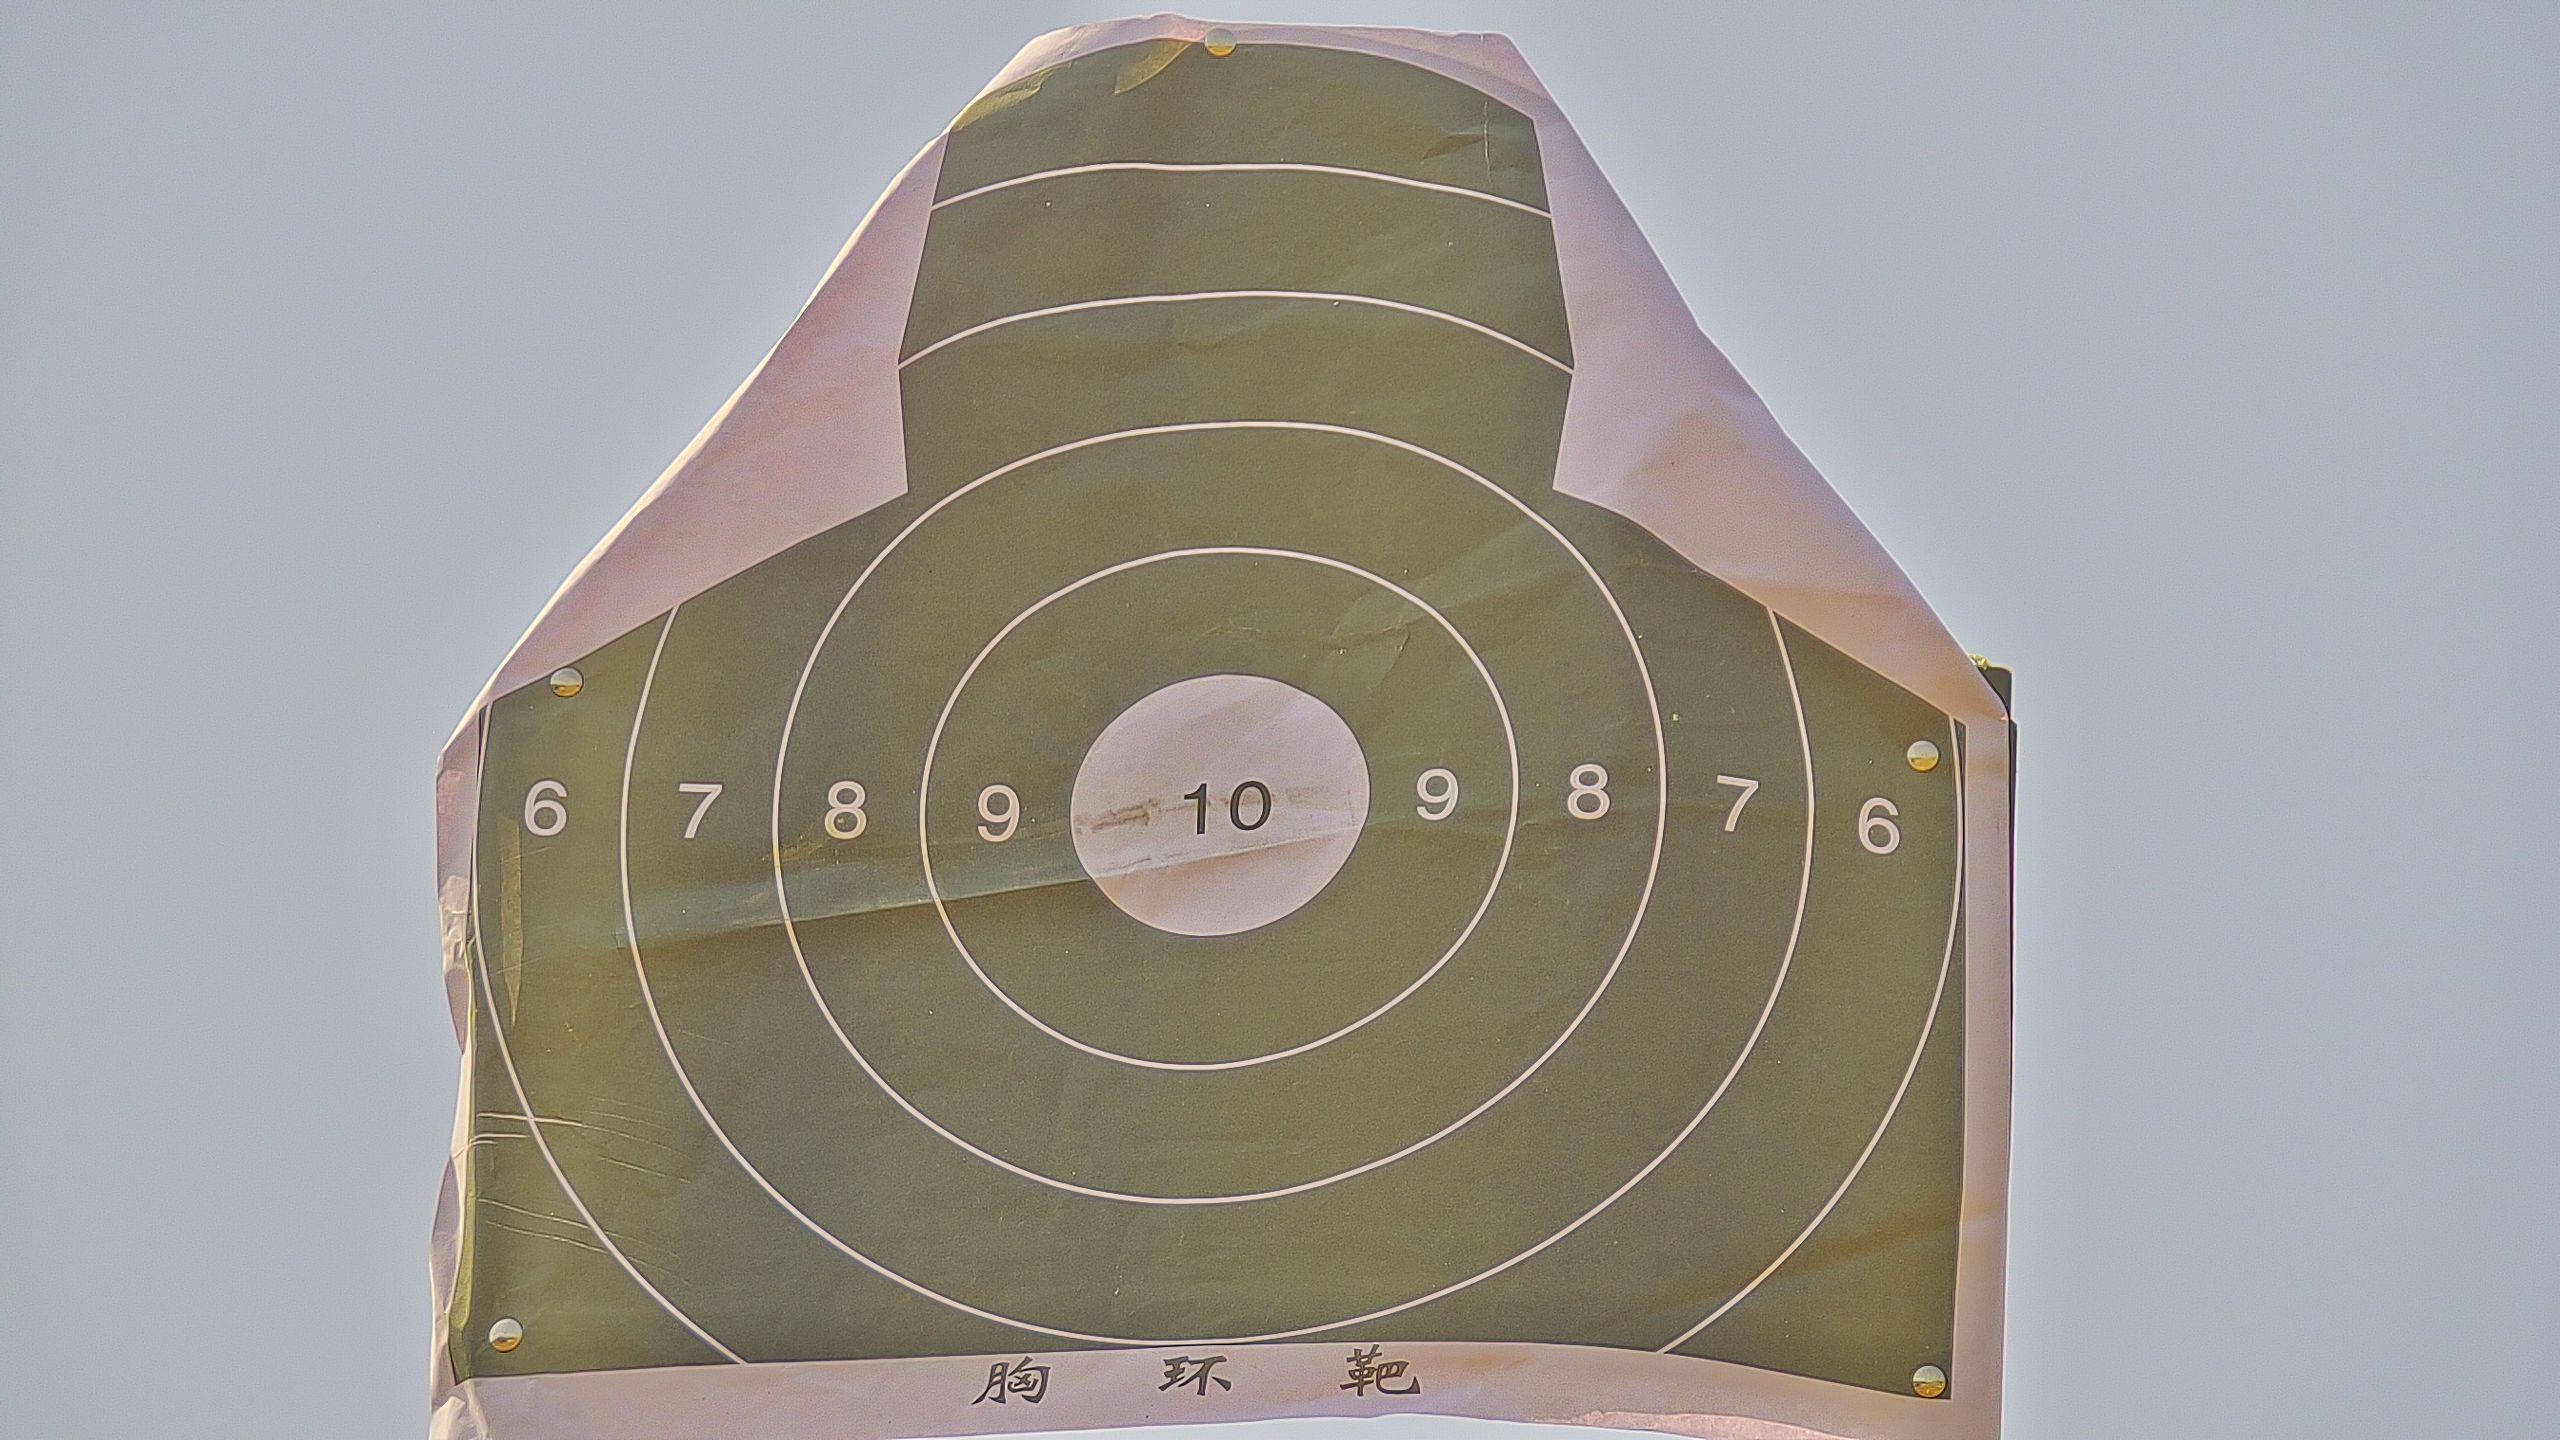kernel: (1220, 811, 1225, 816)
target: (447, 51, 1967, 1412)
ten: (1065, 675, 1368, 937)
